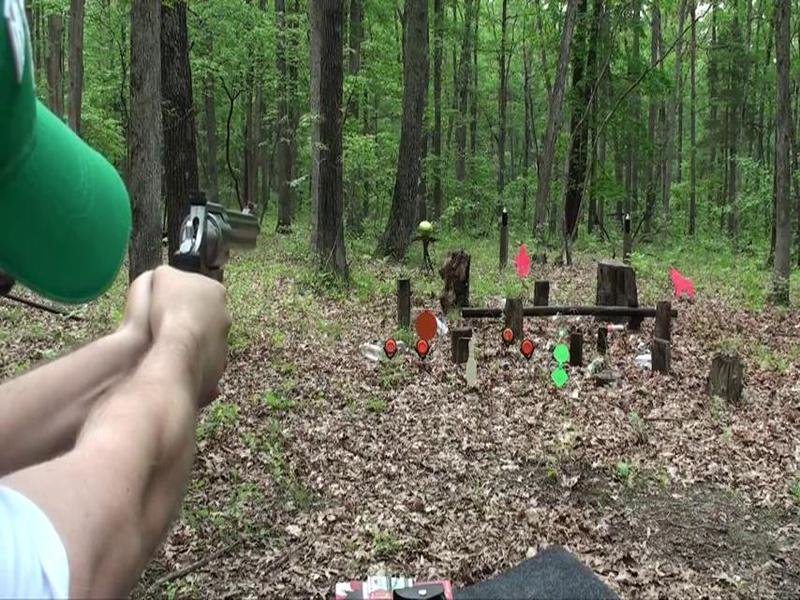Revolver: (179, 167, 282, 324)
